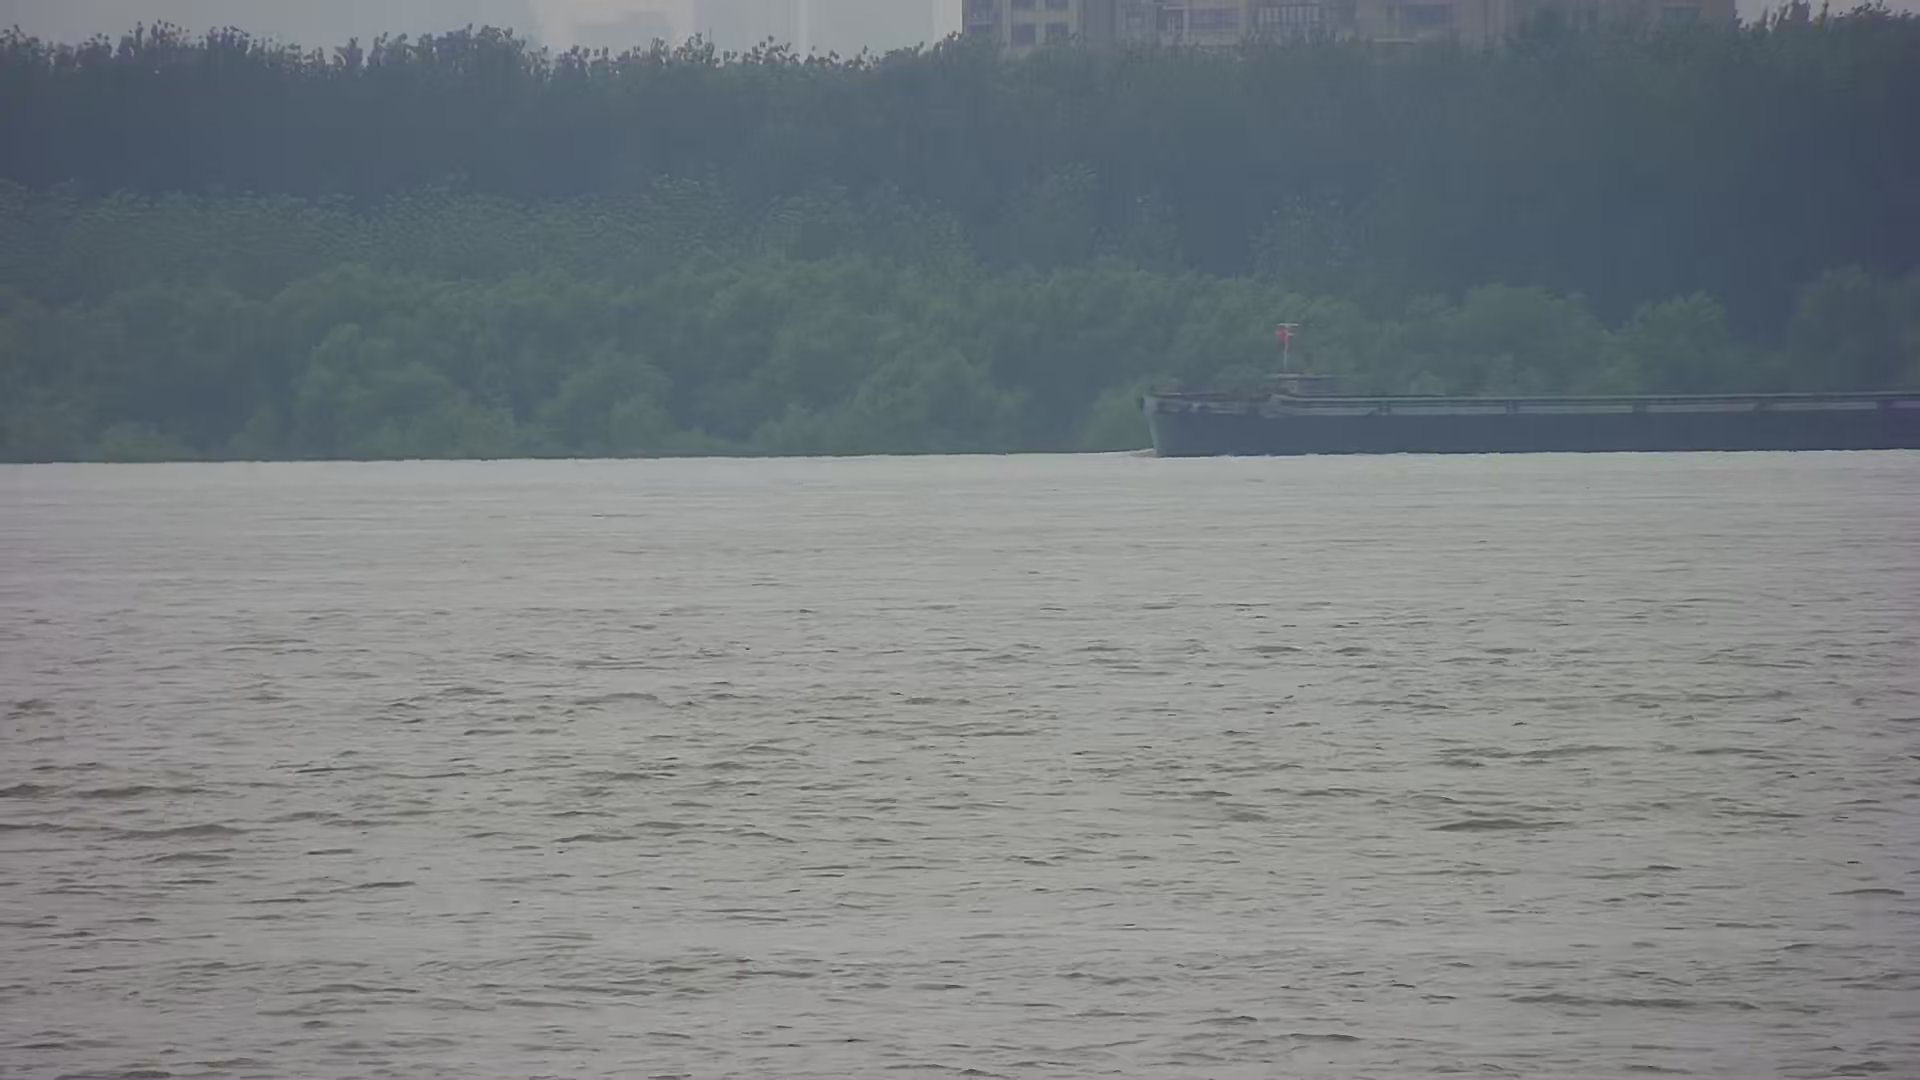ship: (1139, 320, 1920, 458)
